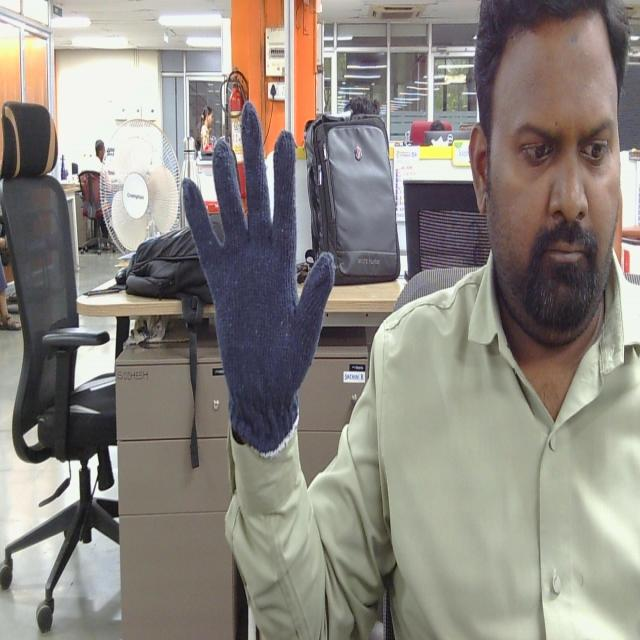Gloves-Detection: (180, 137, 341, 450)
